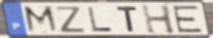E: (171, 5, 204, 34)
H: (140, 4, 178, 35)
L: (86, 7, 114, 33)
M: (22, 5, 61, 34)
T: (115, 6, 140, 33)
Z: (55, 5, 87, 33)
